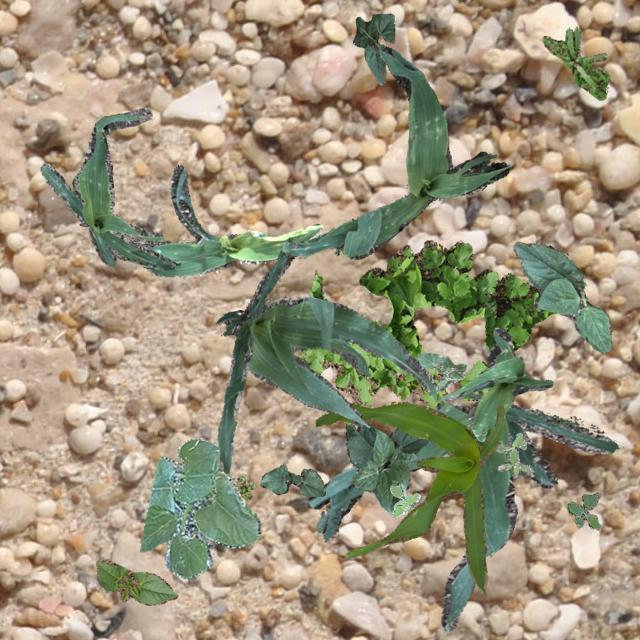crop: (308, 326, 618, 630), (216, 250, 437, 472), (280, 45, 510, 258), (314, 400, 504, 594), (39, 106, 174, 270), (140, 164, 322, 276), (138, 436, 260, 578), (512, 240, 610, 352), (438, 354, 552, 440), (344, 422, 428, 514), (95, 558, 176, 604), (352, 12, 394, 84), (260, 462, 324, 496), (416, 352, 466, 390)
weed: (300, 240, 554, 408), (540, 26, 608, 100), (494, 432, 534, 477), (566, 492, 600, 528), (390, 482, 420, 516), (234, 474, 254, 498)
